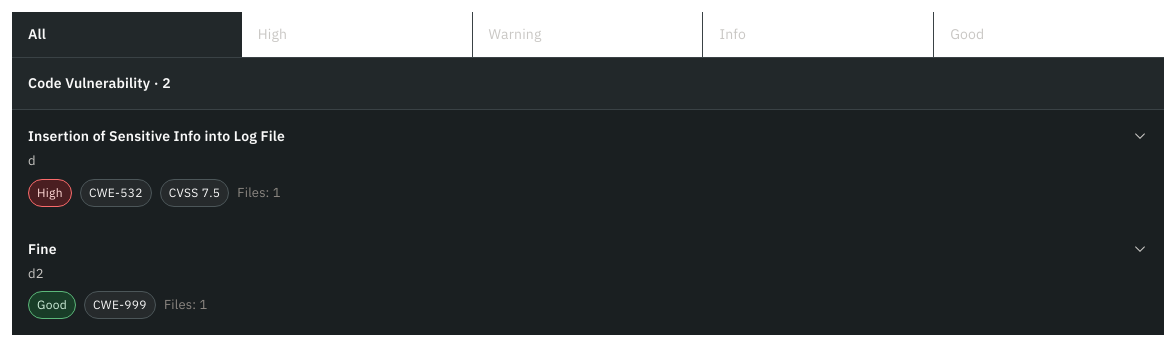
Scenario: CodeAnalysisSection › switching the severity tab shows only the matching vulnerabilities
What coordinates should you click on to do the following:
click the button with class "tabs__item" showing "Good"
I would click on:
 (1049, 34)
Its box is [933, 12, 1164, 57].
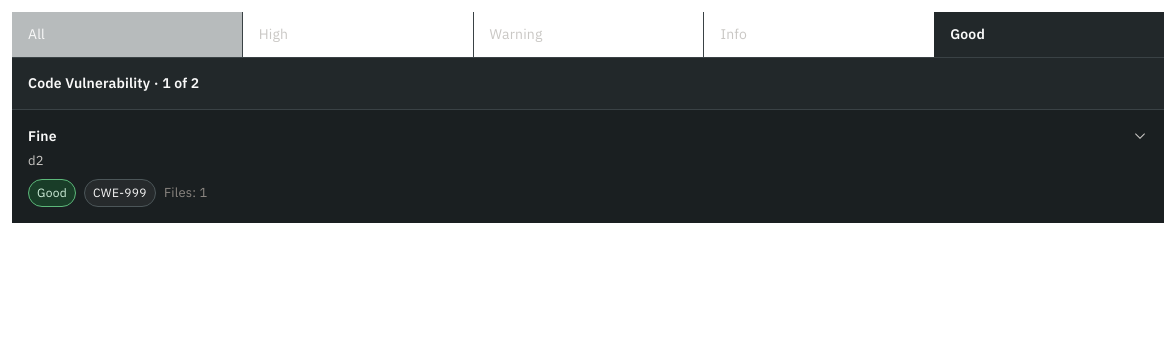
Check: the text "CWE-999" is shown, box [84, 178, 156, 206]
Check: the text "CWE-532" is gone
